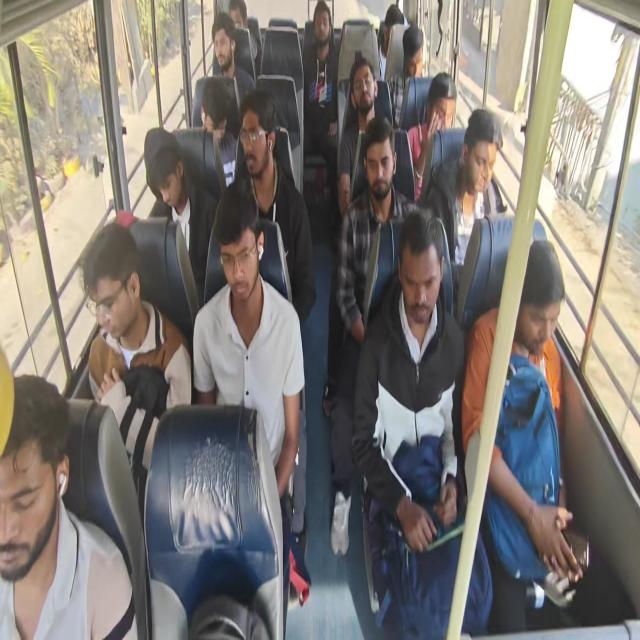person: (1, 371, 61, 569), (498, 250, 574, 382), (83, 230, 159, 344), (399, 224, 453, 322), (213, 200, 261, 297), (136, 124, 181, 207), (458, 103, 492, 203), (196, 81, 235, 158), (422, 68, 460, 137), (362, 112, 390, 197), (308, 9, 343, 66), (382, 1, 406, 62), (209, 21, 237, 73), (349, 65, 377, 114), (406, 24, 426, 79)
